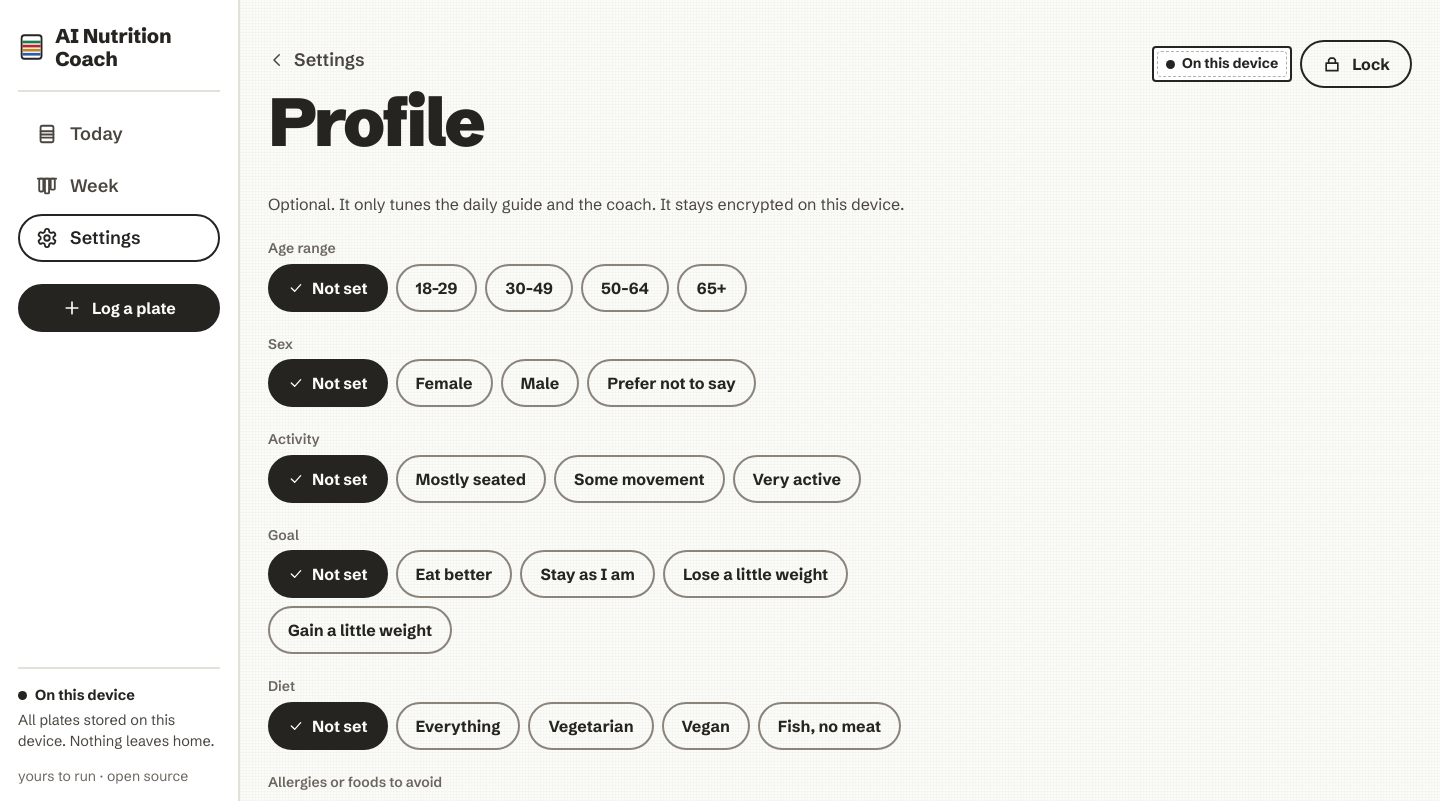
it: ProfileScreen › "Clear profile" removes everything and says so
Click the radio button labelled "Vegan" at (706, 726), box left=662, top=702, right=750, bottom=750
(page scrolled)
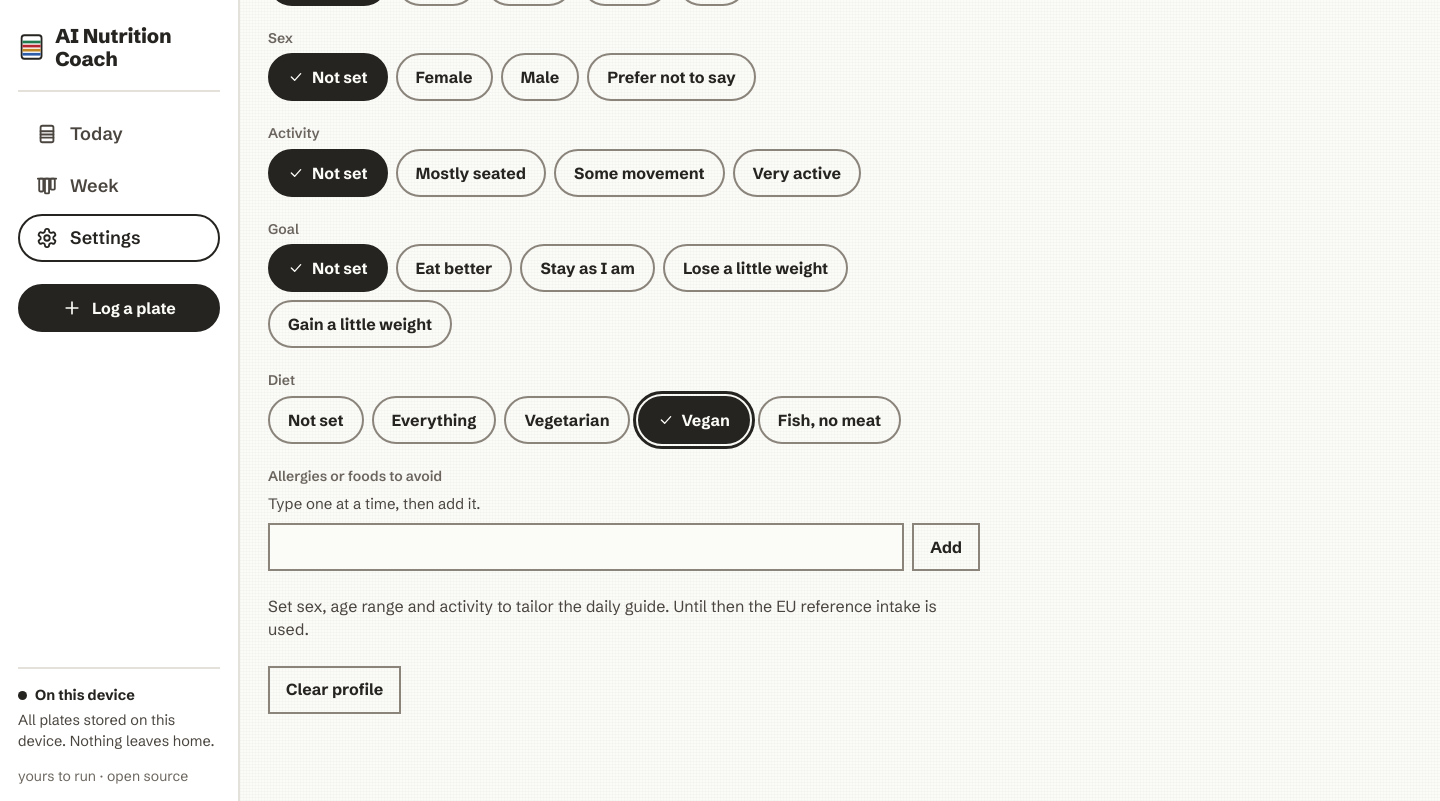
Click the button "Clear profile" at (335, 690), box left=268, top=666, right=401, bottom=714
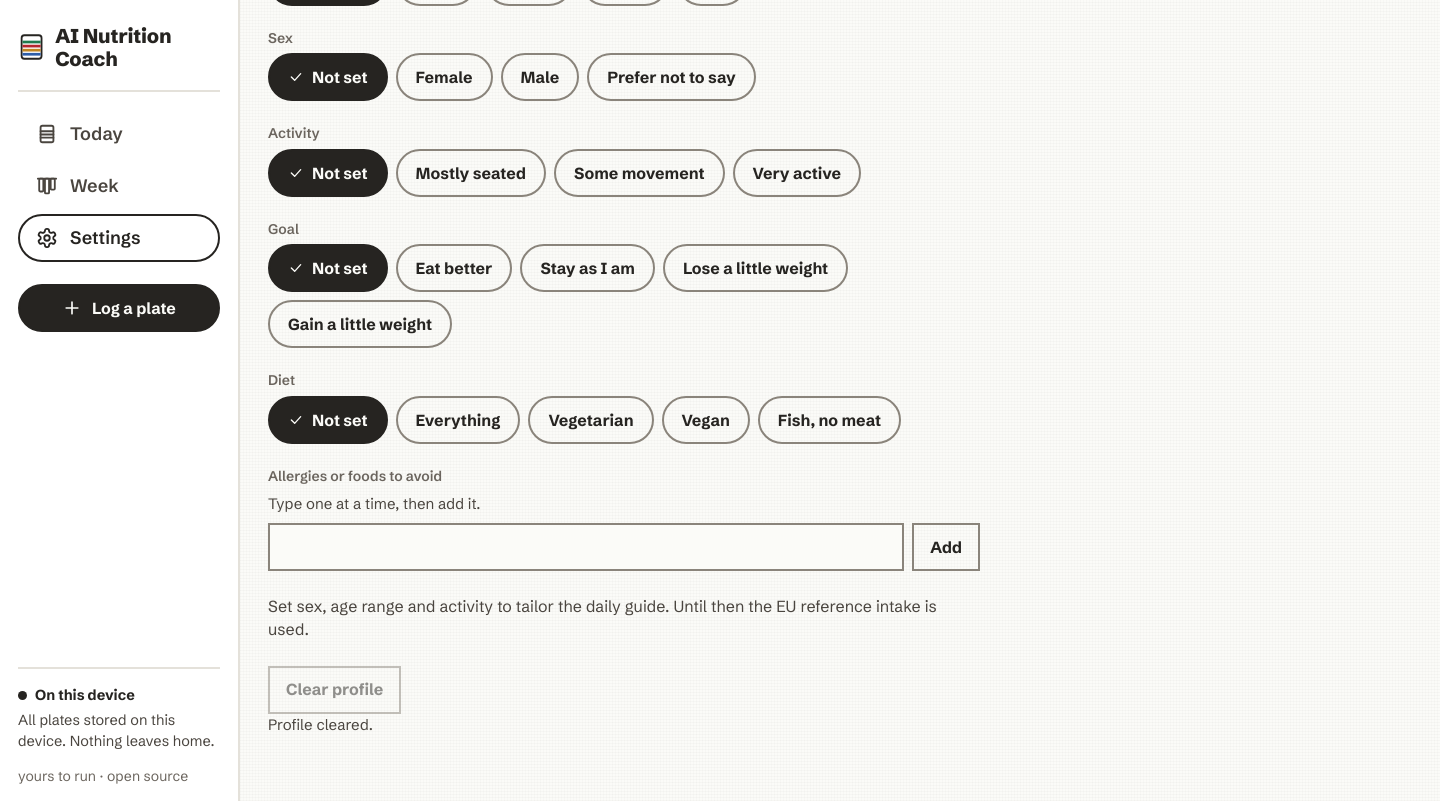
Now the text "Profile cleared." is shown, box left=268, top=714, right=373, bottom=734
Now the radio button labelled "Not set" next to "Everything" is checked, box left=268, top=396, right=388, bottom=444
